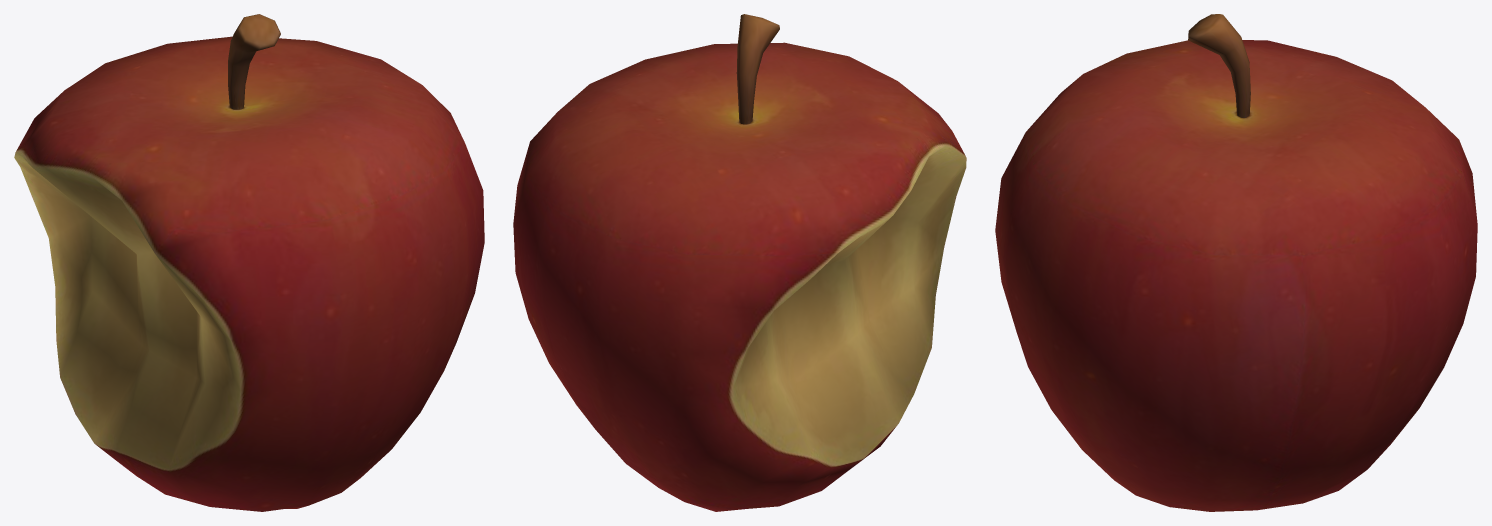
The model's file is apple-bitten.glb.
3 views of the same model, side by side, from view 1: azimuth 30°, elevation 25°; view 2: azimuth 150°, elevation 25°; view 3: azimuth 270°, elevation 25° (orthographic). The views are drawn at different scales.
Parts seen in each view (by area): view 1: apple-bitten; view 2: apple-bitten; view 3: apple-bitten.
Boxes of the visible parts, <box> form: apple-bitten: <box>14,14,484,511</box>; apple-bitten: <box>513,14,966,511</box>; apple-bitten: <box>995,14,1477,511</box>.
Bounding box in the file's own units: 0.8674 × 1 × 0.9276.
1 material, 1 textured.
